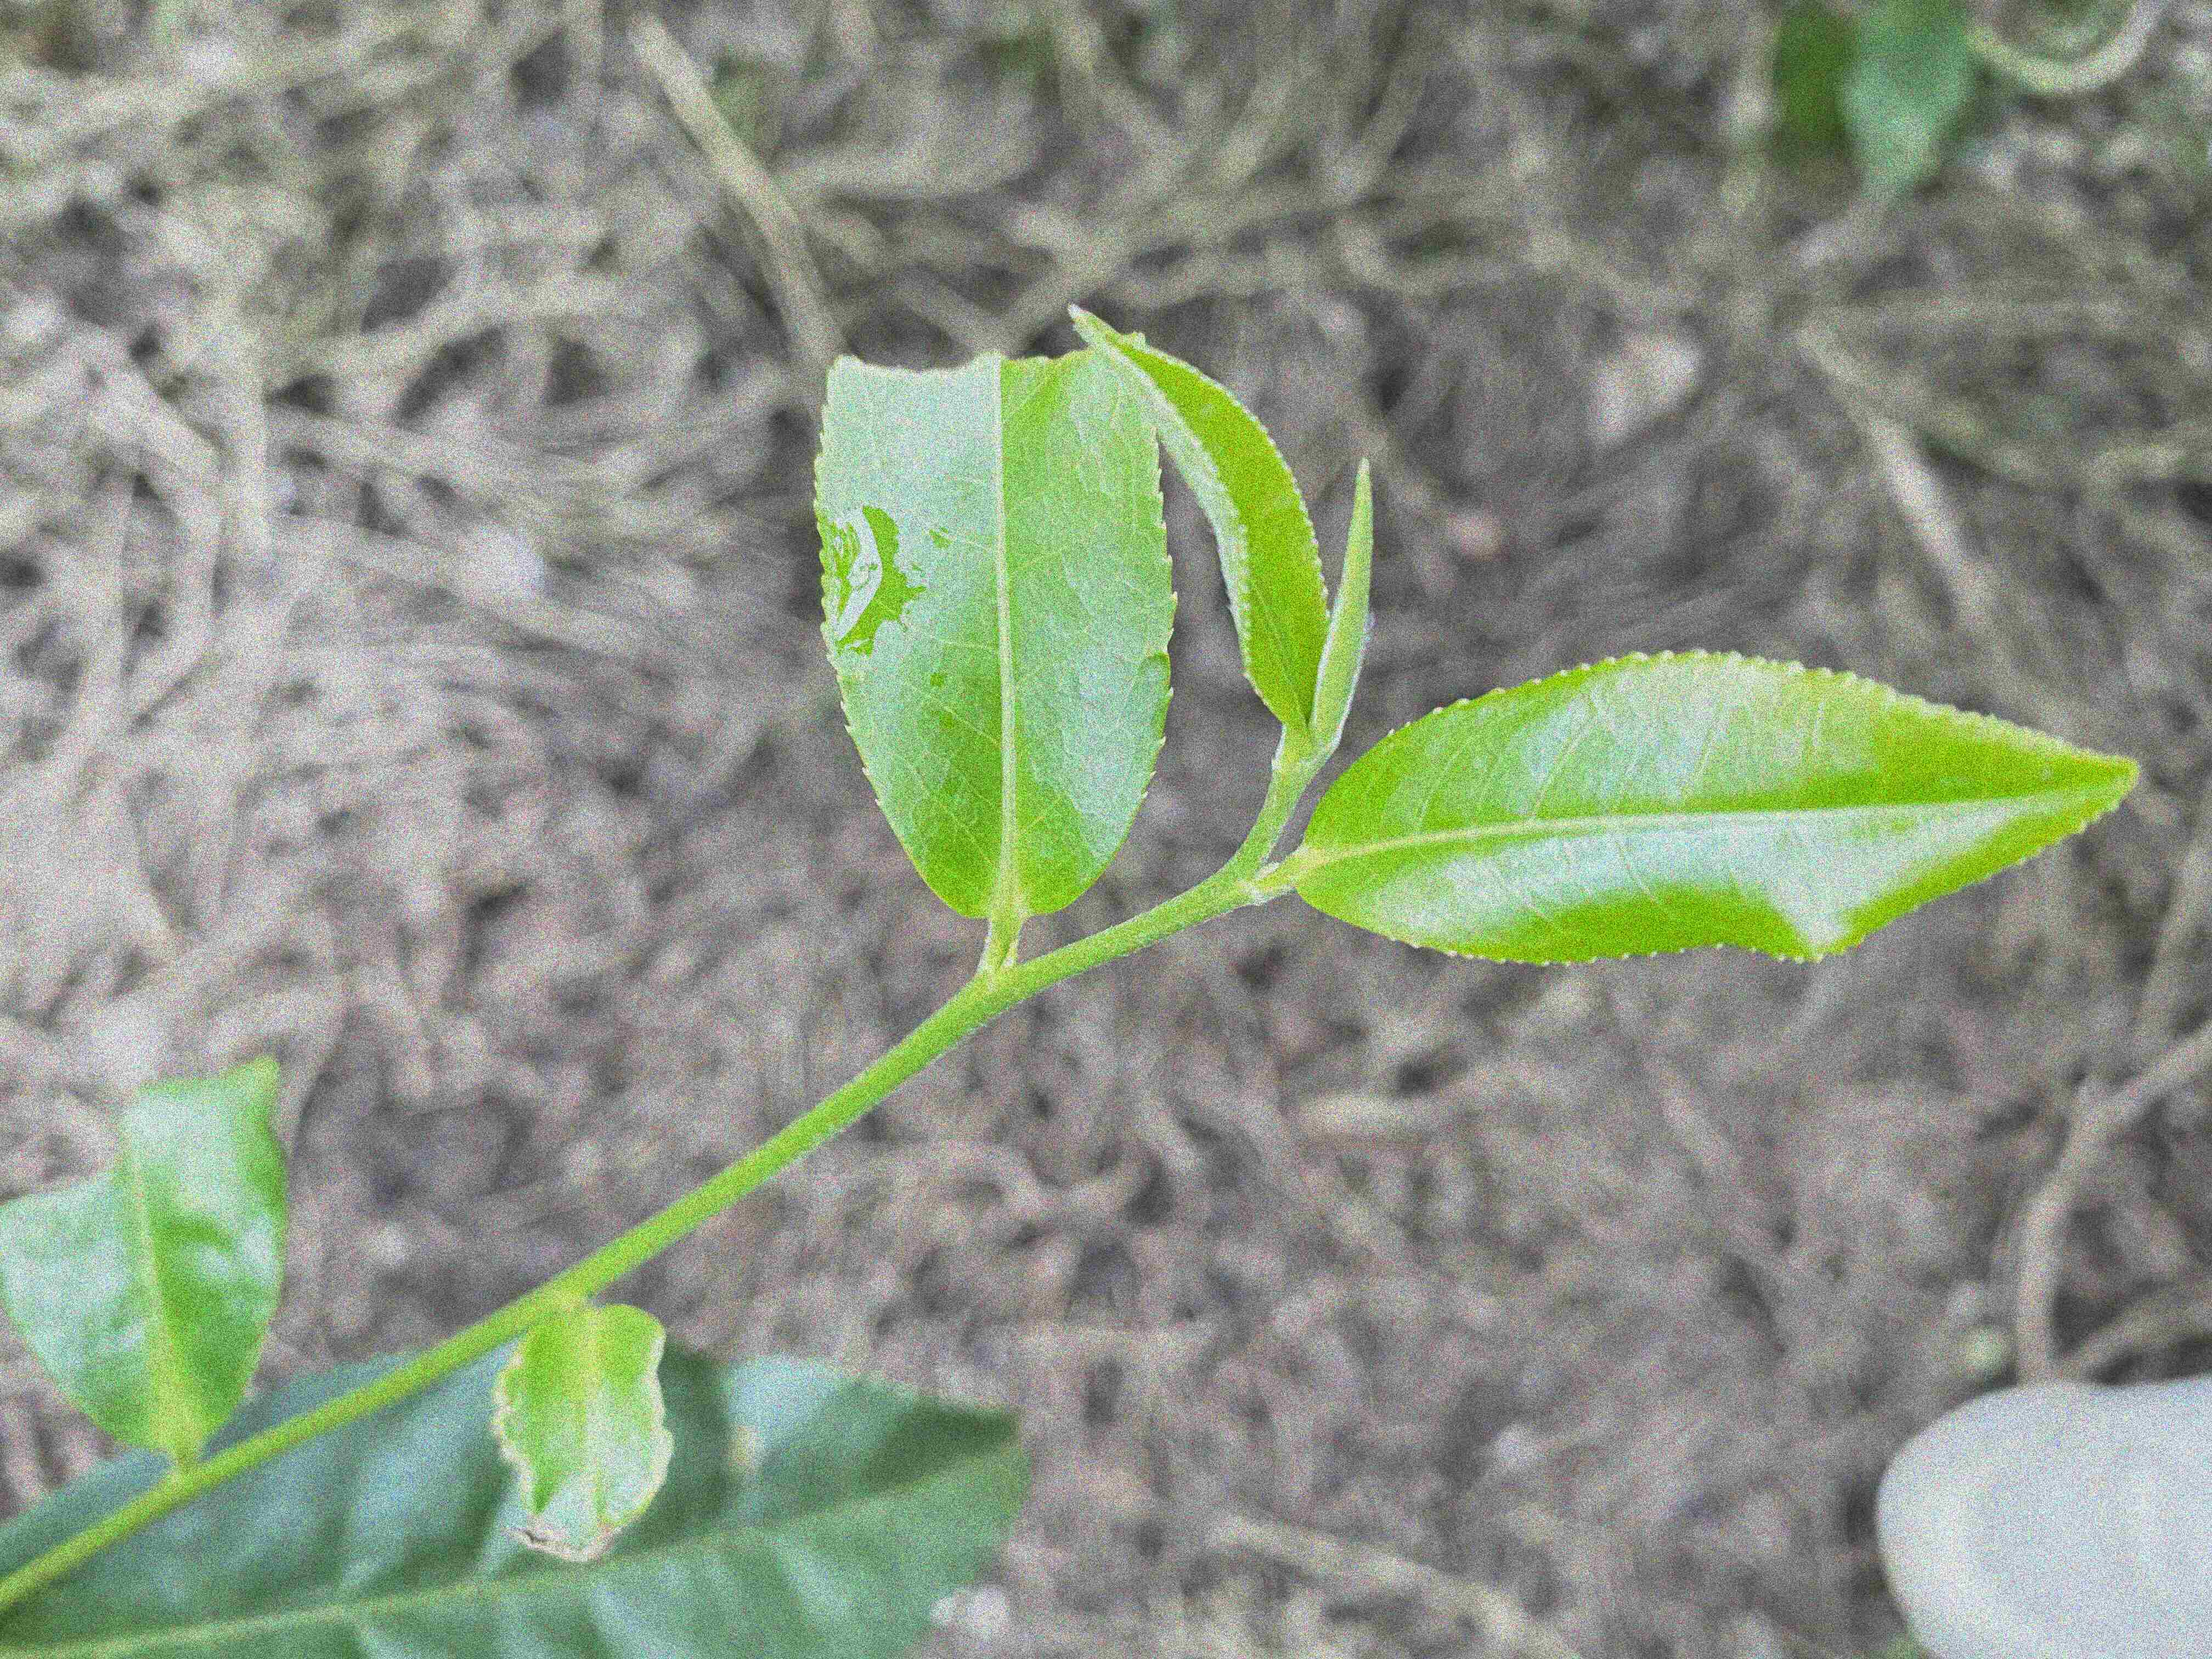chihuo_high: (815, 333, 1179, 925), (2, 1058, 293, 1453), (482, 1293, 672, 1565)
healthy: (1291, 643, 2137, 971), (1068, 303, 1331, 742)
